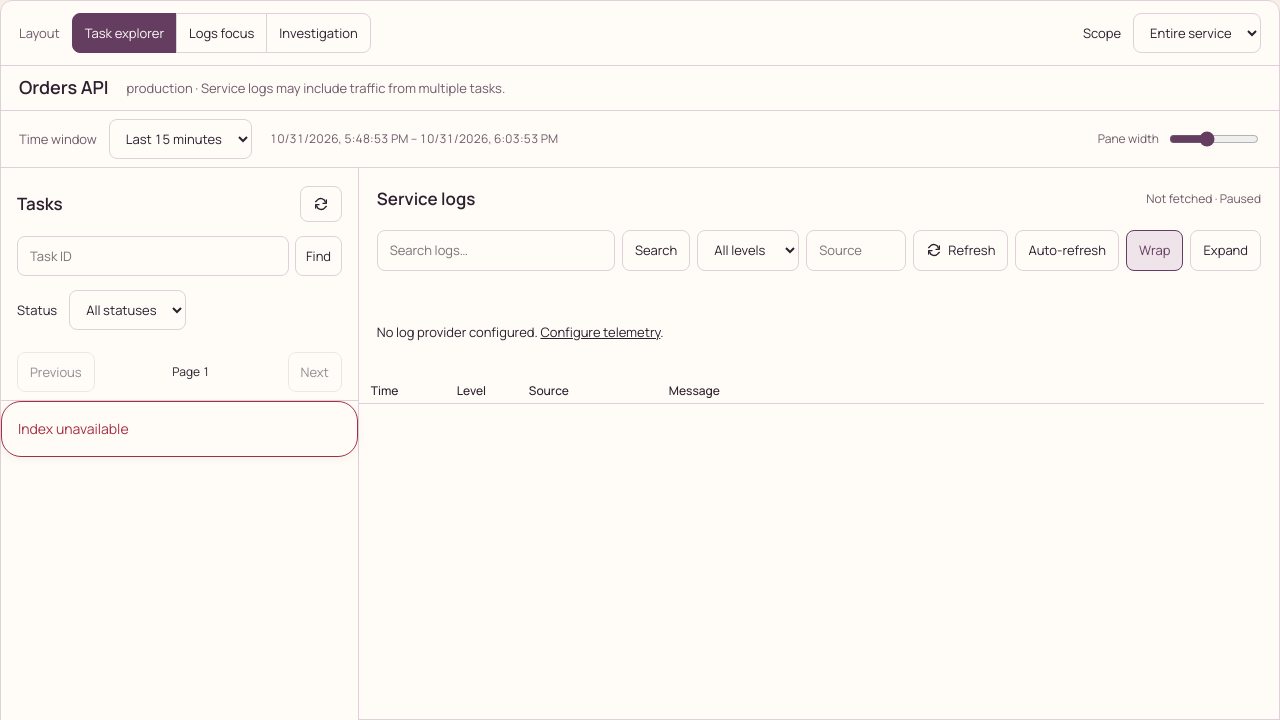
Test case: shows provider, failed-search and empty states without issuing log requests
Expected: the text "Index unavailable" is shown, [1,401,358,457]
Expected: the text "No log provider configured. Configure telemetry ." is shown, [377,322,664,340]
What coordinates should you click on to do the following:
click the button named "Refresh tasks"
I would click on:
 (321, 204)
Its box is [300,186,342,222].
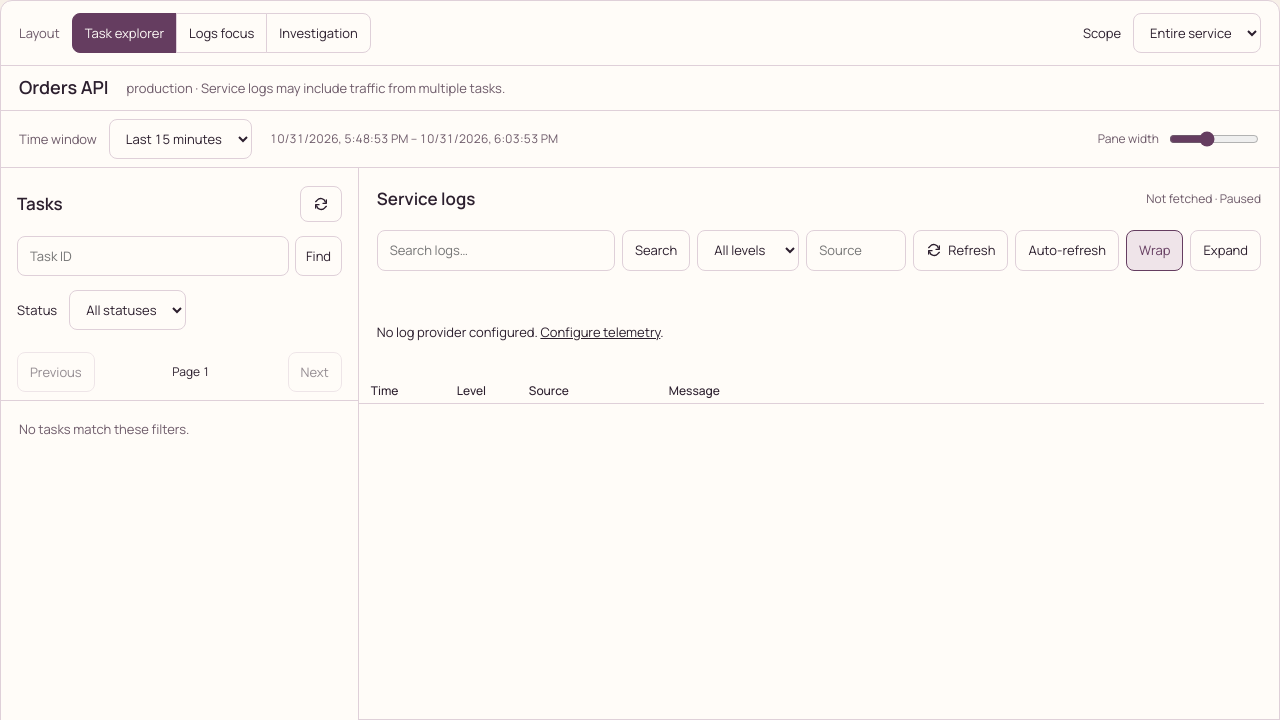
Result: the text "No tasks match these filters." is shown at [19,420,189,438]
